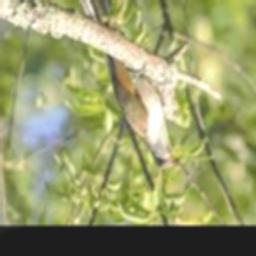Cuckoo: (76, 0, 179, 169)
